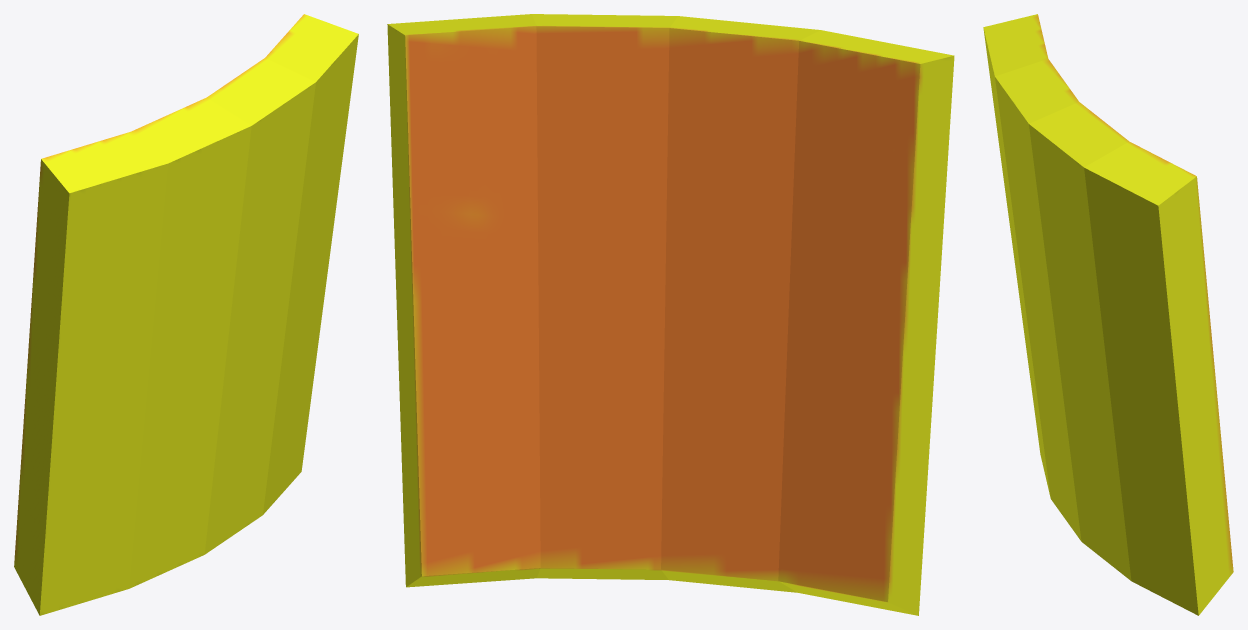
File: Level_2_4.obj
3 renders of one model, left to right at view 1: azimuth 30°, elevation 25°; view 2: azimuth 150°, elevation 25°; view 3: azimuth 270°, elevation 25°, orthographic. The views are drawn at different scales.
Parts seen in each view (by area): view 1: Level_2_4_Cylinder.031; view 2: Level_2_4_Cylinder.031; view 3: Level_2_4_Cylinder.031.
Boxes of the visible parts, <box> form: Level_2_4_Cylinder.031: <box>14,14,358,615</box>; Level_2_4_Cylinder.031: <box>387,14,954,615</box>; Level_2_4_Cylinder.031: <box>983,14,1233,615</box>.
Bounding box in the file's own units: 1.67 × 1.92 × 0.9886.
